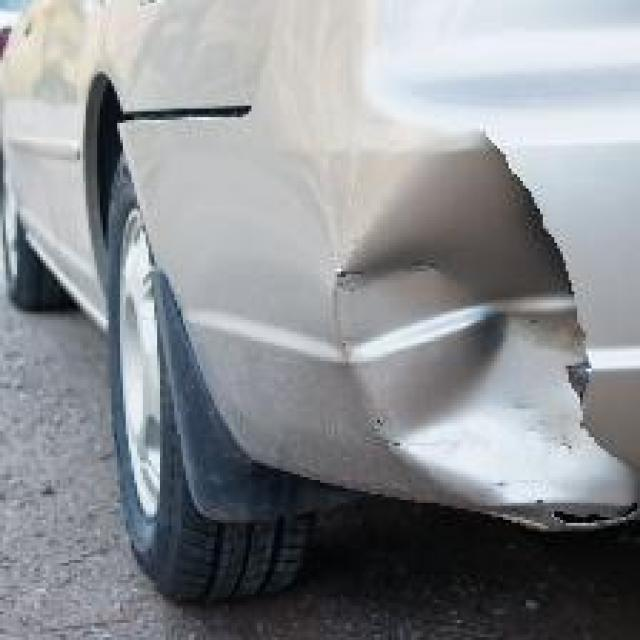damaged: (322, 117, 638, 540)
